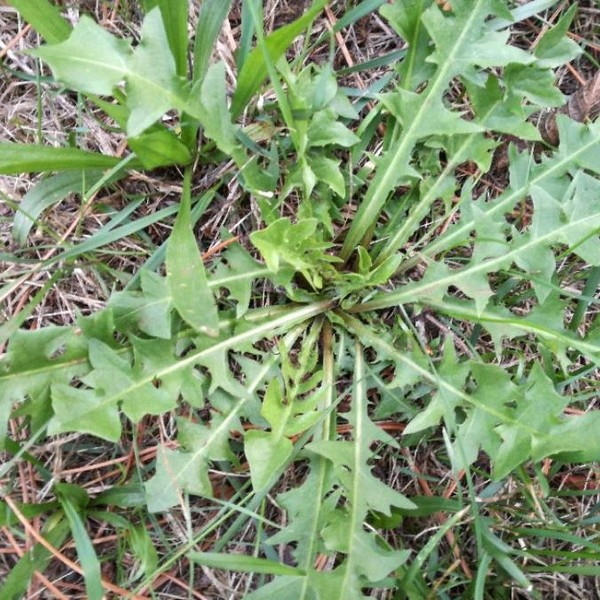obstacle: (72, 40, 576, 581)
